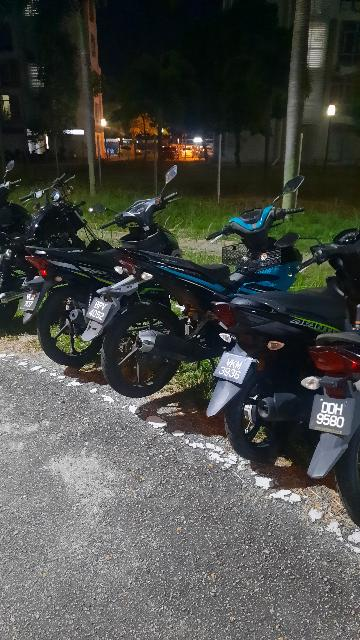License_Plate: (306, 392, 355, 440), (211, 351, 261, 396), (83, 296, 120, 326)
motorcycle: (98, 171, 323, 401), (204, 212, 360, 468), (15, 169, 175, 380)
